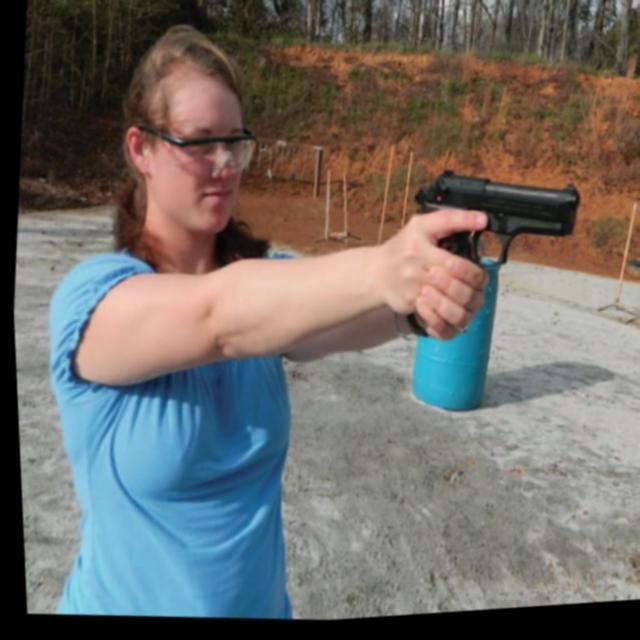weapon: (387, 162, 590, 432)
